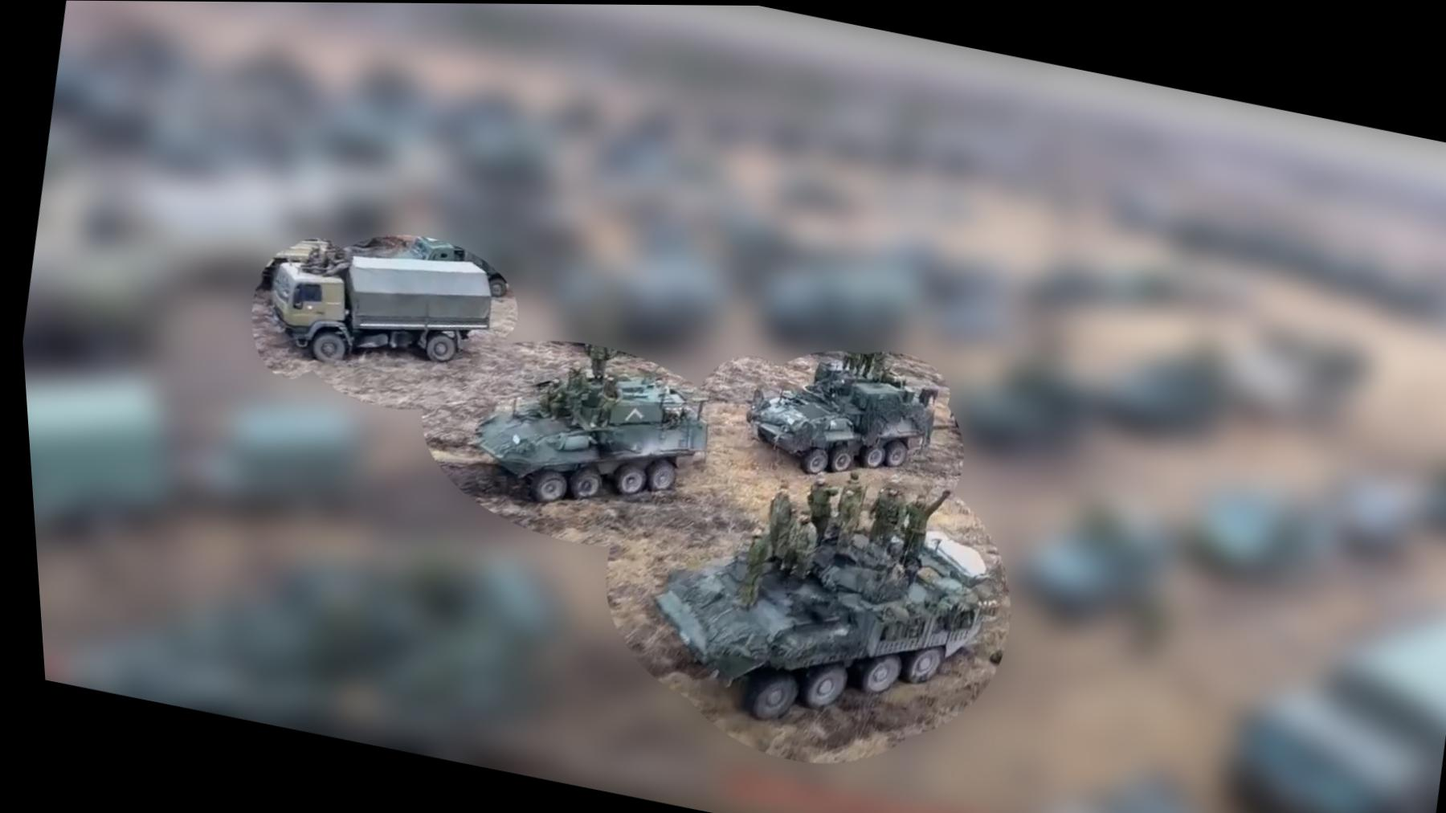armored_car: (617, 457, 1020, 770), (449, 342, 717, 539), (735, 336, 954, 498)
truck: (246, 223, 512, 400)
